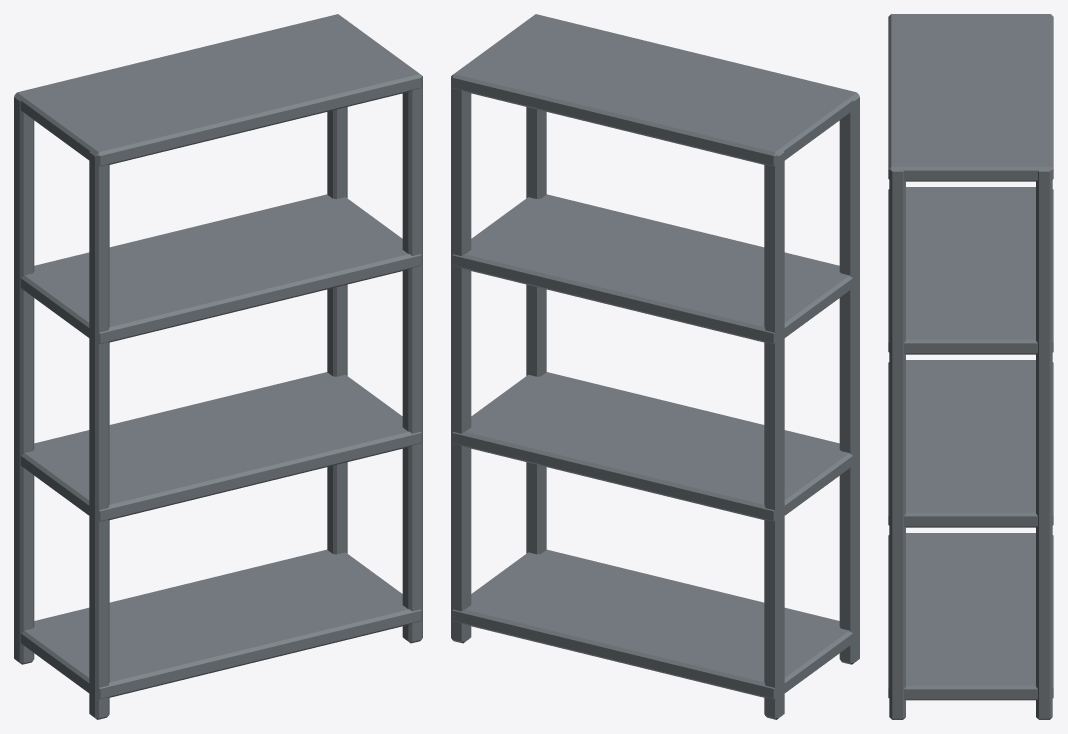
The model's file is MetalShelf.fbx.
3 renders of one model, left to right at view 1: azimuth 30°, elevation 25°; view 2: azimuth 150°, elevation 25°; view 3: azimuth 270°, elevation 25°, orthographic. The views are drawn at different scales.
Visible parts, largest first — view 1: MetalShelf; view 2: MetalShelf; view 3: MetalShelf.
Part boxes in pixels (x1,y1,x2,y2): MetalShelf: (14, 14, 422, 719); MetalShelf: (451, 14, 859, 719); MetalShelf: (888, 14, 1053, 719).
Bounding box in the file's own units: 100 × 166 × 45.
Materials: 1 (1 with a texture image).
